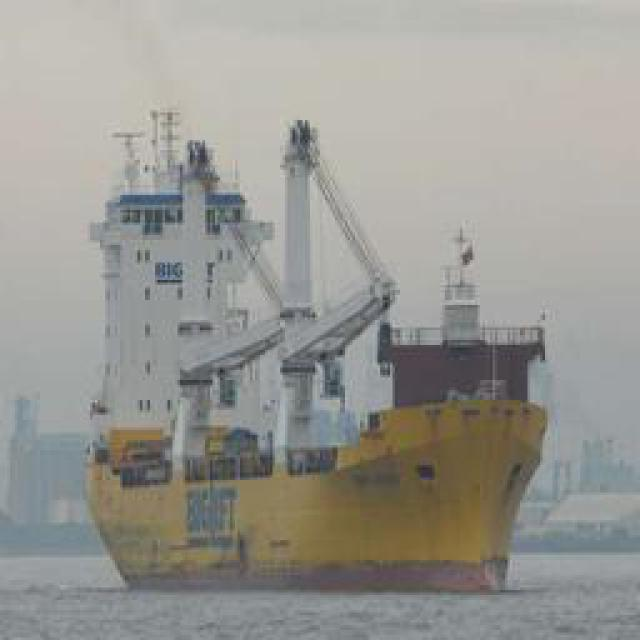Ship: (82, 65, 540, 593)
